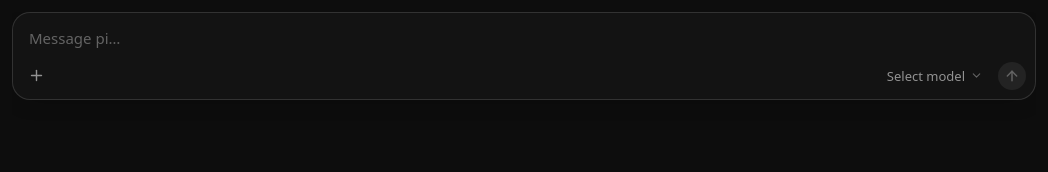
Composer › has a round Attach file button and a Send button enabled by a draft
The image size is (1048, 172).
Check: the button titled "Model and thinking" is shown, box [877,62,991,90]
Check: the button named "Send" is disabled, box [997,61,1027,91]
Step 1. Type "hi" into the text box labelled "Message" → [524, 34], box [13,13,1035,55]
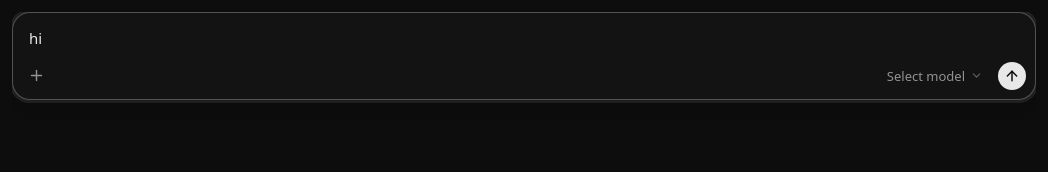
Check: the button named "Send" is enabled, box [997,61,1027,91]
